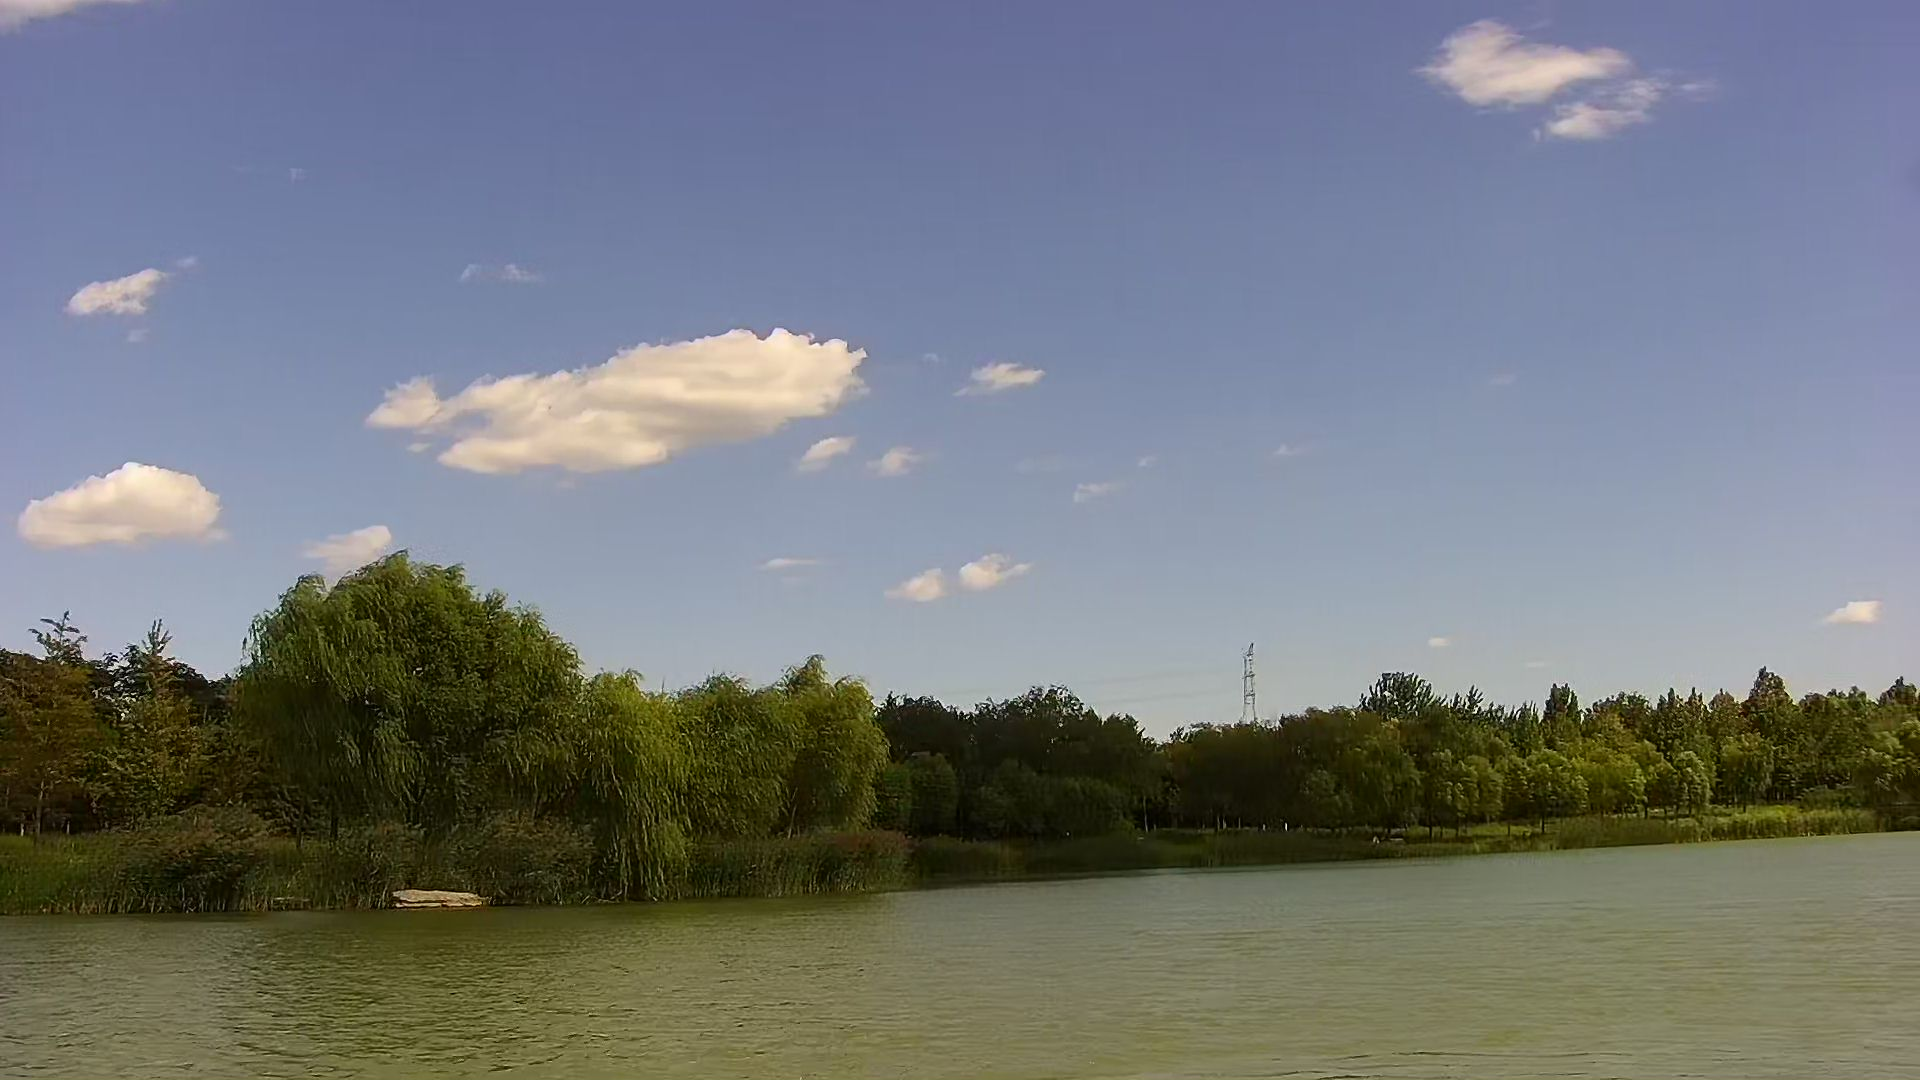rock: (388, 885, 491, 916)
